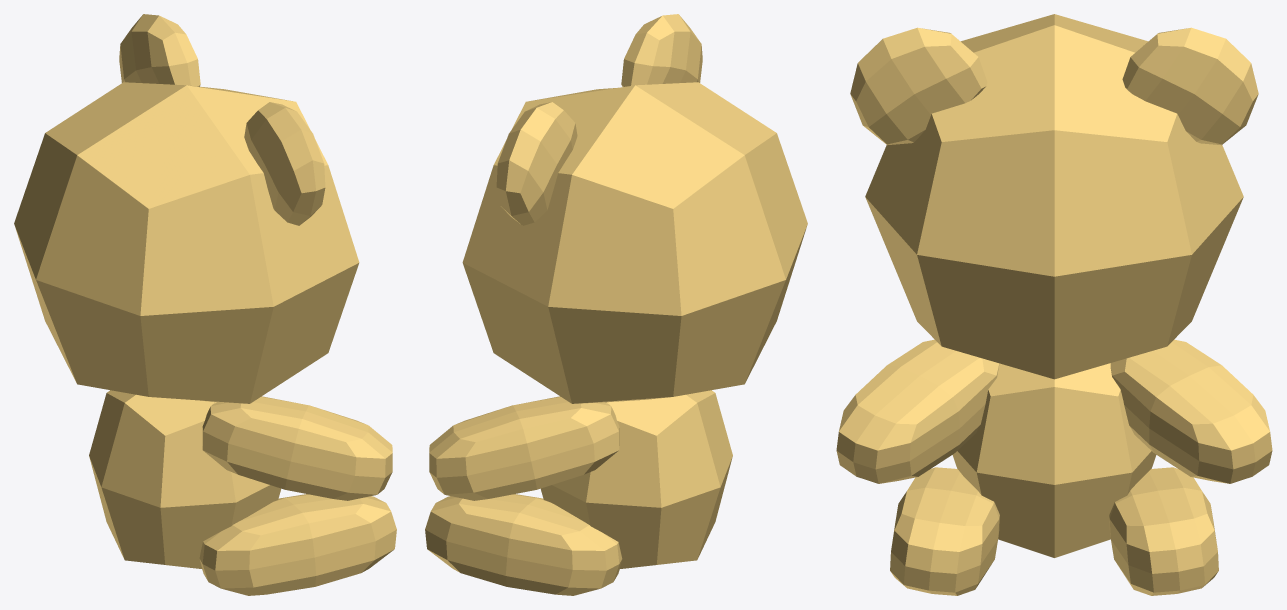
The model's file is Bear_toy.fbx.
The picture shows the model from 3 angles, left to right: view 1: azimuth 30°, elevation 25°; view 2: azimuth 150°, elevation 25°; view 3: azimuth 270°, elevation 25°; orthographic projection. The views are drawn at different scales.
Visible parts, largest first — view 1: Bear_toy; view 2: Bear_toy; view 3: Bear_toy.
Boxes of the visible parts, x1,y1,x2,y2 form: Bear_toy: (14,14,396,595); Bear_toy: (425,14,807,595); Bear_toy: (836,14,1272,595).
Size of the model in its own units: 25.43 by 39.4 by 29.28.
